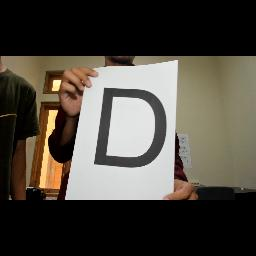d: (92, 84, 168, 174)
